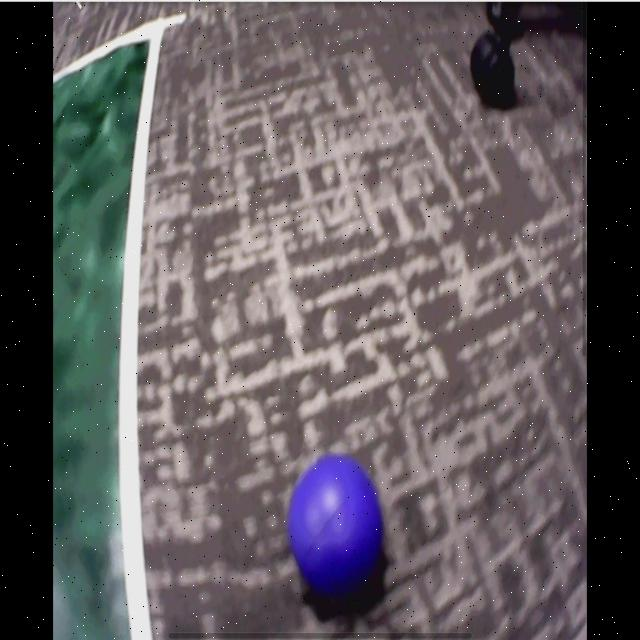ball: (290, 456, 383, 587)
